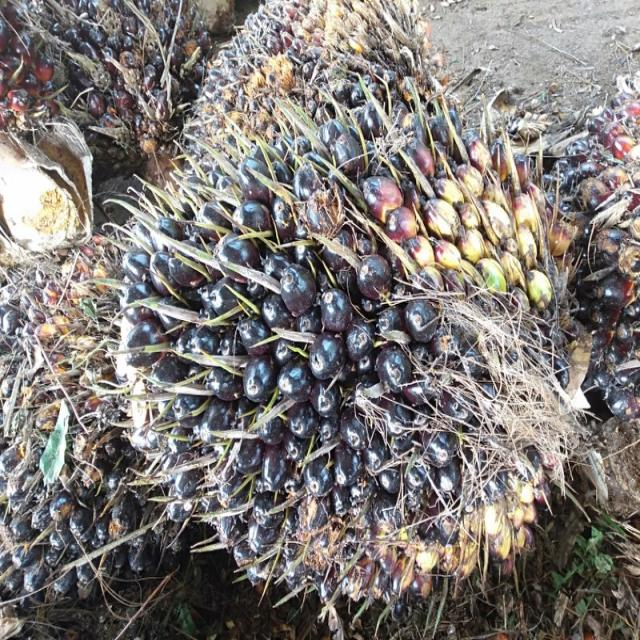fraksi 00: (122, 100, 576, 600)
